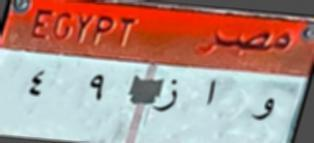4: (27, 68, 46, 102)
9: (87, 72, 107, 105)
alif: (199, 77, 220, 108)
waw: (249, 90, 275, 127)
zay: (152, 79, 178, 117)
